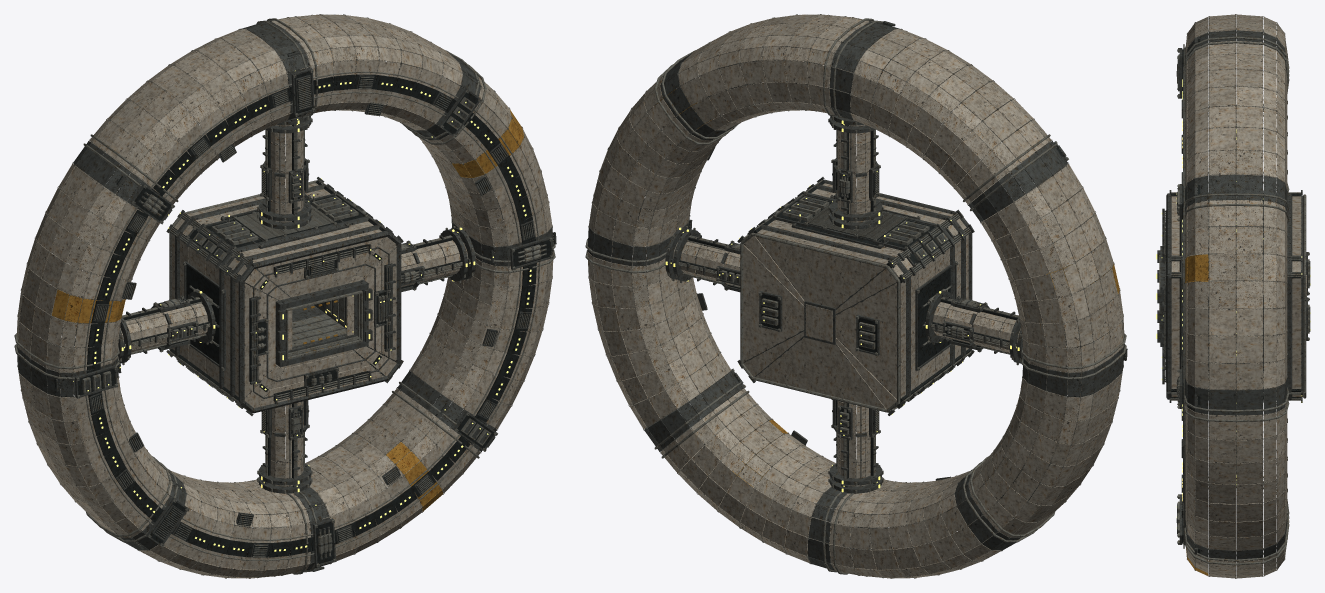
Rendered from ring.glb.
3 renders of one model, left to right at view 1: azimuth 30°, elevation 25°; view 2: azimuth 150°, elevation 25°; view 3: azimuth 270°, elevation 25°, orthographic. The views are drawn at different scales.
Parts seen in each view (by area): view 1: static/dark-structure, static/cladding-armour-2, static/cladding-armour-0, static/cladding-armour-1, static/machined-alloy, static/recess-black, static/cladding-armour-3, static/cladding-dark-structure, static/cladding-service-ochre, static/amber-lamp; view 2: static/cladding-armour-2, static/cladding-armour-0, static/cladding-armour-1, static/cladding-armour-3, static/dark-structure, static/machined-alloy, static/cladding-dark-structure, static/recess-black; view 3: static/cladding-armour-1, static/cladding-armour-2, static/cladding-armour-3, static/cladding-armour-0, static/dark-structure, static/machined-alloy, static/cladding-dark-structure, static/recess-black, static/cladding-service-ochre, static/amber-lamp.
Part boxes in pixels (x1,y1,x2,y2): static/dark-structure: (17, 14, 556, 578); static/cladding-armour-2: (18, 17, 552, 578); static/cladding-armour-0: (17, 14, 553, 577); static/cladding-armour-1: (16, 14, 553, 577); static/machined-alloy: (14, 14, 555, 578); static/recess-black: (54, 51, 553, 568); static/cladding-armour-3: (18, 14, 552, 578); static/cladding-dark-structure: (16, 21, 553, 570); static/cladding-service-ochre: (52, 109, 523, 511); static/amber-lamp: (73, 70, 531, 551); static/cladding-armour-2: (589, 14, 1123, 577); static/cladding-armour-0: (587, 15, 1124, 578); static/cladding-armour-1: (588, 14, 1121, 576); static/cladding-armour-3: (589, 14, 1123, 578); static/dark-structure: (587, 14, 1127, 578); static/machined-alloy: (585, 14, 1126, 578); static/cladding-dark-structure: (587, 21, 1124, 570); static/recess-black: (638, 23, 1124, 528); static/cladding-armour-1: (1185, 17, 1306, 578); static/cladding-armour-2: (1171, 14, 1287, 575); static/cladding-armour-3: (1171, 14, 1300, 578); static/cladding-armour-0: (1185, 16, 1301, 578); static/dark-structure: (1157, 14, 1310, 576); static/machined-alloy: (1159, 14, 1309, 578); static/cladding-dark-structure: (1185, 30, 1287, 559); static/recess-black: (1165, 39, 1301, 552); static/cladding-service-ochre: (1185, 254, 1208, 575); static/amber-lamp: (1156, 79, 1310, 528).
Size of the model in its own units: 1341 by 1341 by 364.
9 materials, 8 textured.
